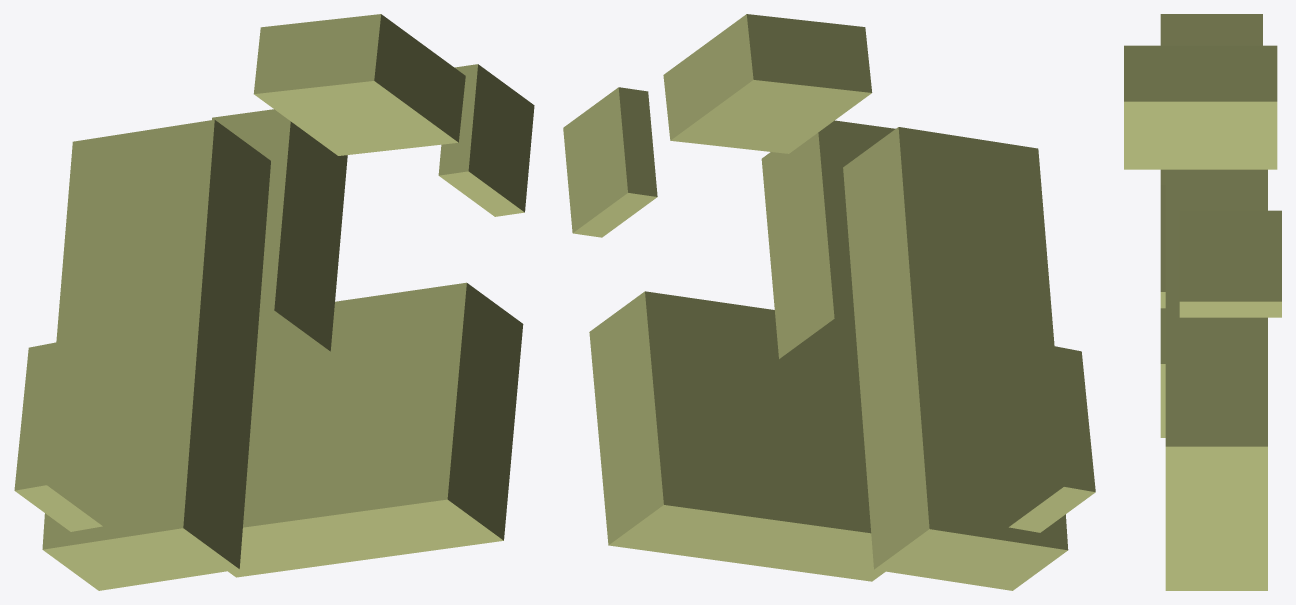
The picture shows the model from 3 angles, left to right: view 1: azimuth 30°, elevation 25°; view 2: azimuth 150°, elevation 25°; view 3: azimuth 270°, elevation 25°; orthographic projection. The views are drawn at different scales.
Parts seen in each view (by area): view 1: 0_2_1_3_0_3_1_0_0; view 2: 0_2_1_3_0_3_1_0_0; view 3: 0_2_1_3_0_3_1_0_0.
Boxes of the visible parts, x1,y1,x2,y2 form: 0_2_1_3_0_3_1_0_0: (14, 14, 534, 590); 0_2_1_3_0_3_1_0_0: (563, 14, 1095, 590); 0_2_1_3_0_3_1_0_0: (1124, 14, 1281, 590).
Size of the model in its own units: 29.13 by 30.1 by 9.26.
